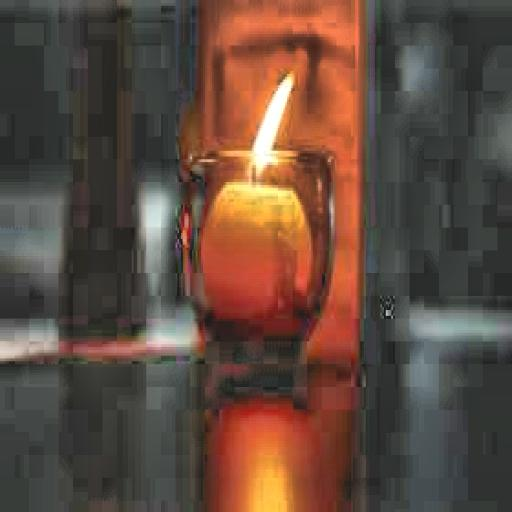fire: (247, 66, 296, 180)
